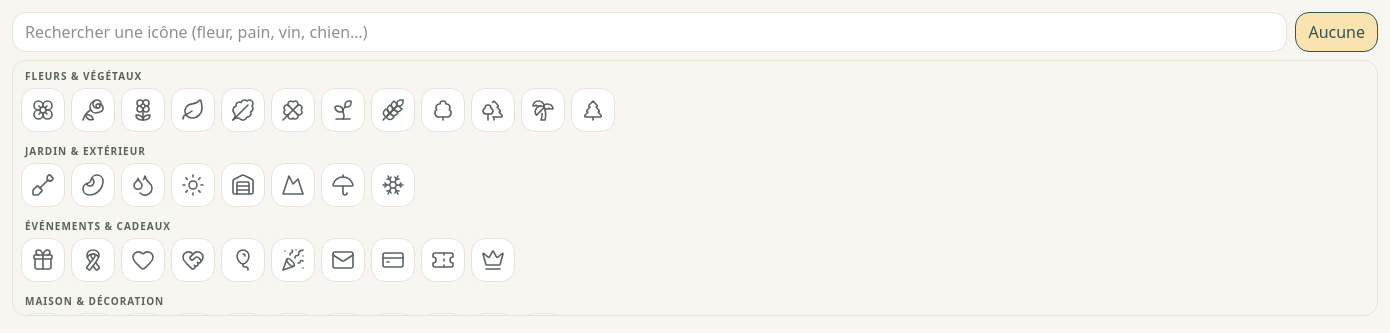
Sélecteur d'icône › annonce quand rien ne correspond
The width and height of the screenshot is (1390, 333).
Type "zzzzz" into the field with placeholder "Rechercher une icône (fleur, pain, vin, chien…)" at x=650, y=32, box left=12, top=12, right=1287, bottom=52
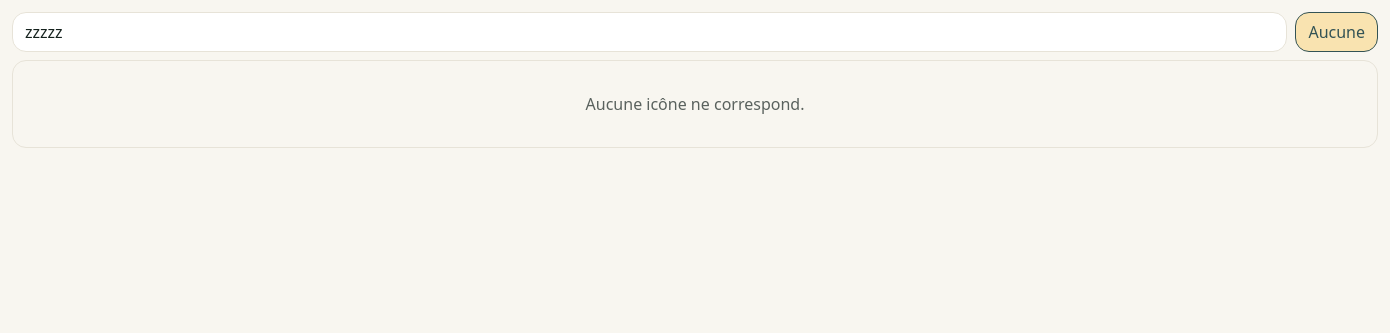
Now the text "Aucune icône ne correspond." is shown, box left=586, top=93, right=804, bottom=115
